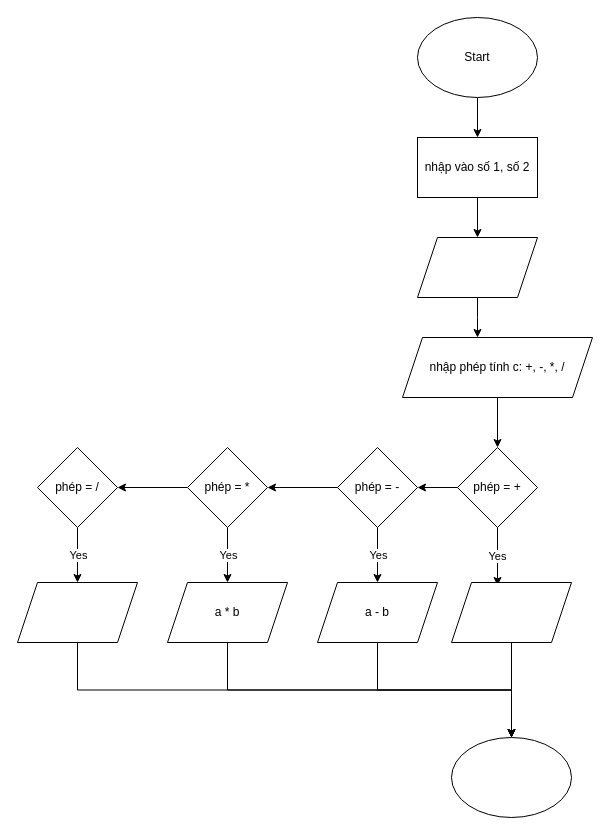
Some shapes in this 610 by 835 pixel diagram are drawn without their labels. The shapes that lost their labels are listed below. From the top down, each one's centre as x and y in pixels, then its label:
(x=477, y=267): nhập a, b
(x=77, y=612): a / b
(x=511, y=612): a + b
(x=511, y=777): END
